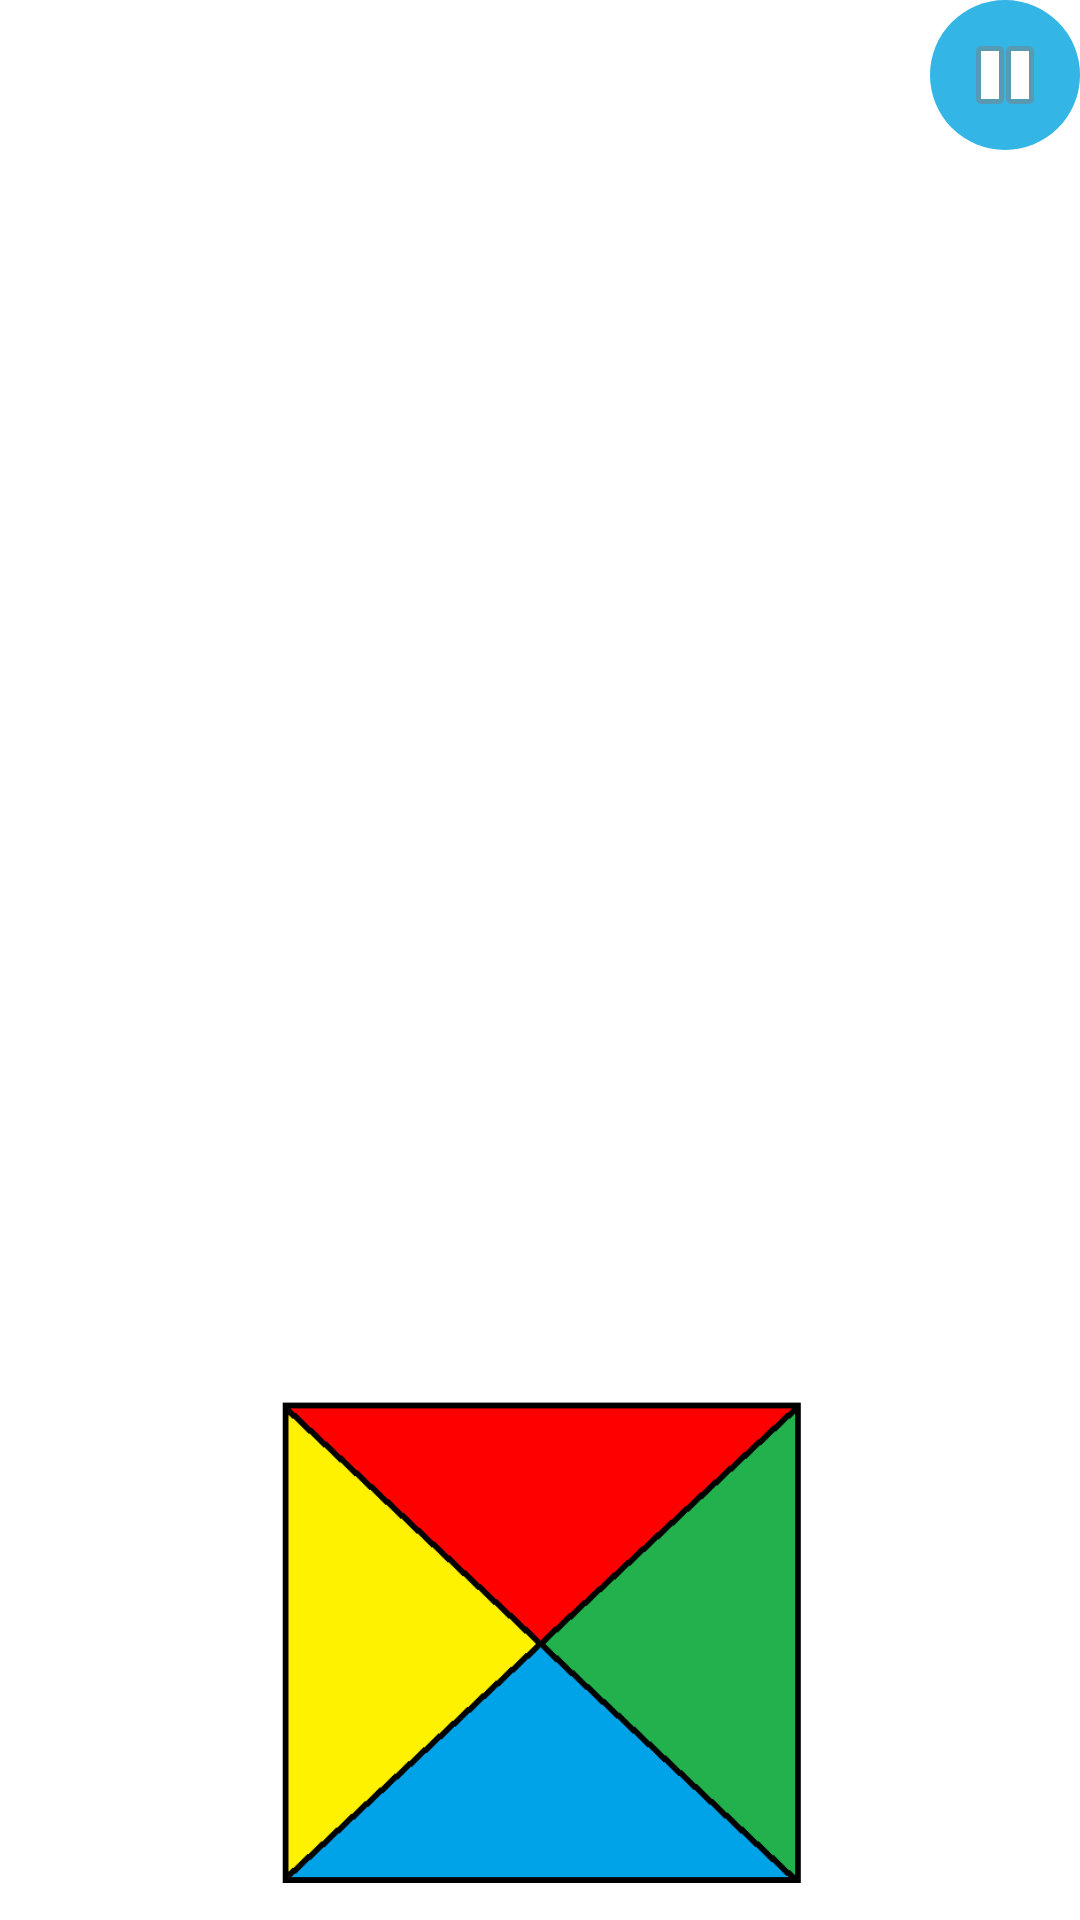

Screen size 1080x1920. Icon name, then its center in pixels as (x,y):
pause: (1005,75)
